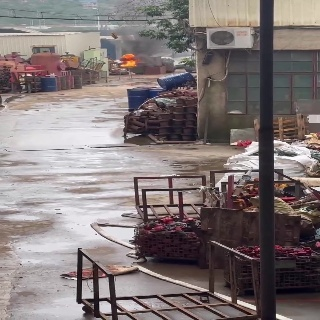fire: (120, 54, 136, 66)
